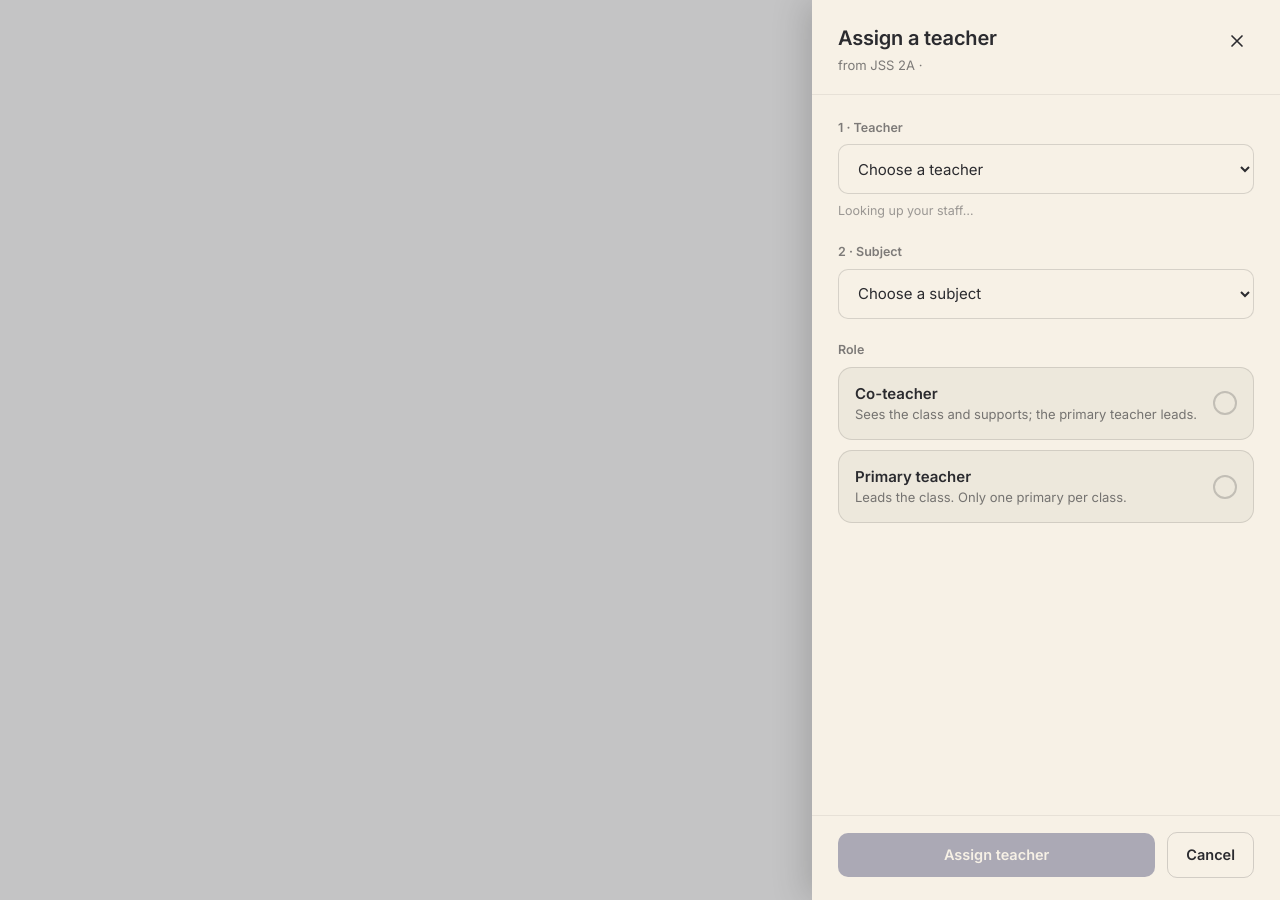
Scenario: a class that doesn't take the subject › can't be ticked, says why, and adds the subject when asked - then it can
Select "t-bello" in the dropdown named "Teacher": (1046, 169) [838, 144, 1254, 194]
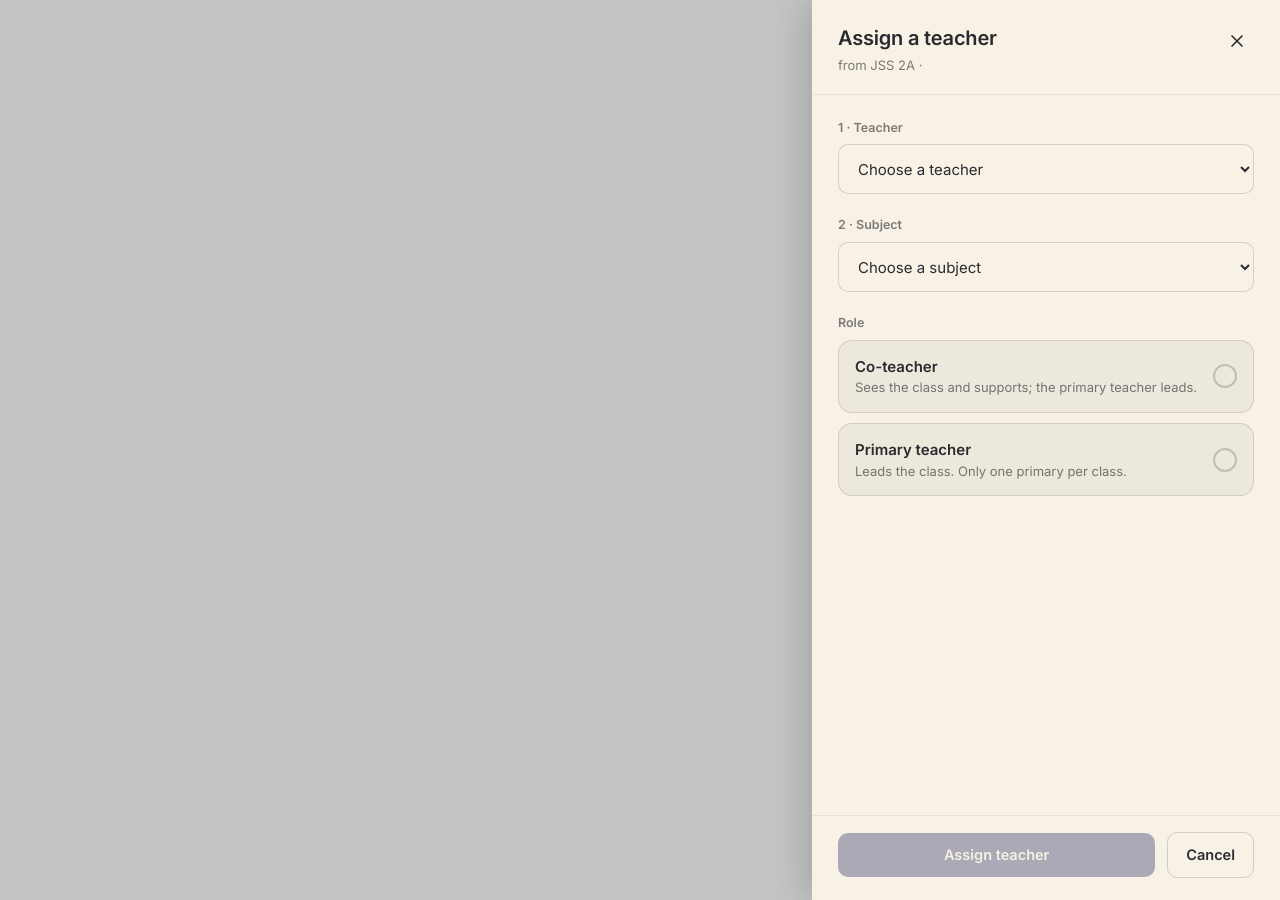
Select "Mathematics" in the dropdown labelled "2 · Subject": (1046, 267) [838, 242, 1254, 292]
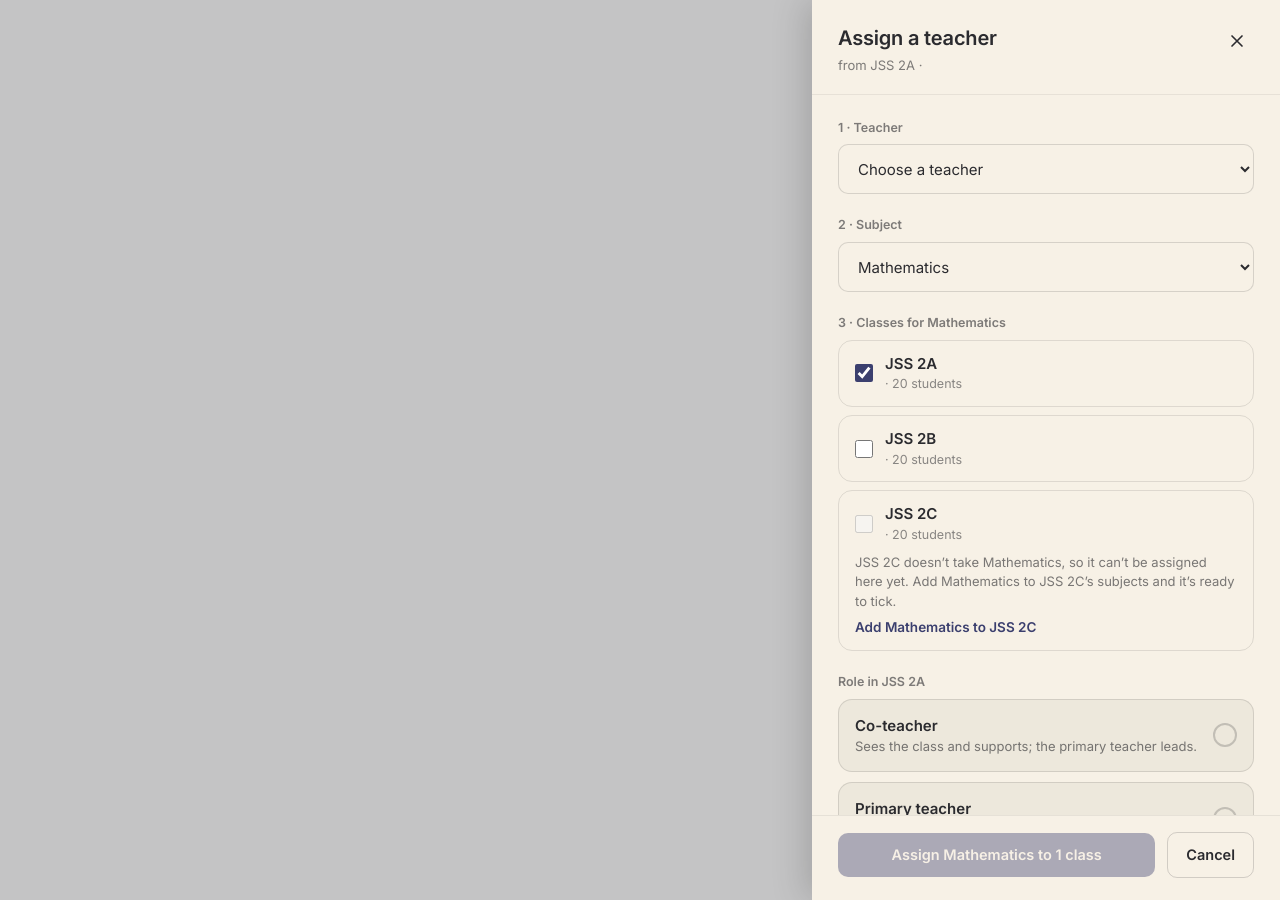
Now the checkbox labelled "JSS 2C · 20 students" is disabled, box [855, 515, 873, 533]
Click the button "Add Mathematics to JSS 2C": (946, 627) [855, 617, 1036, 637]
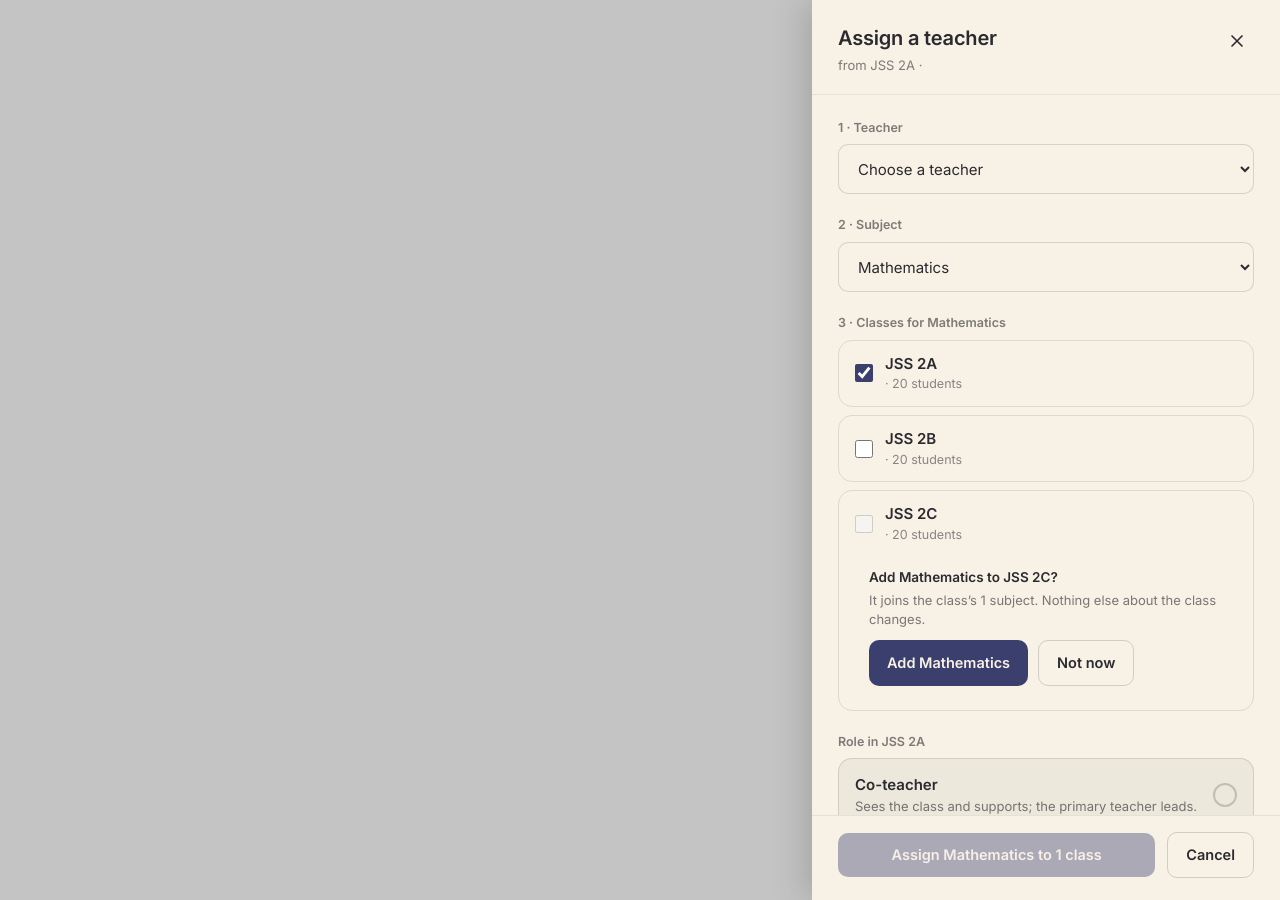
Click the button "Add Mathematics": (949, 663) [869, 640, 1028, 686]
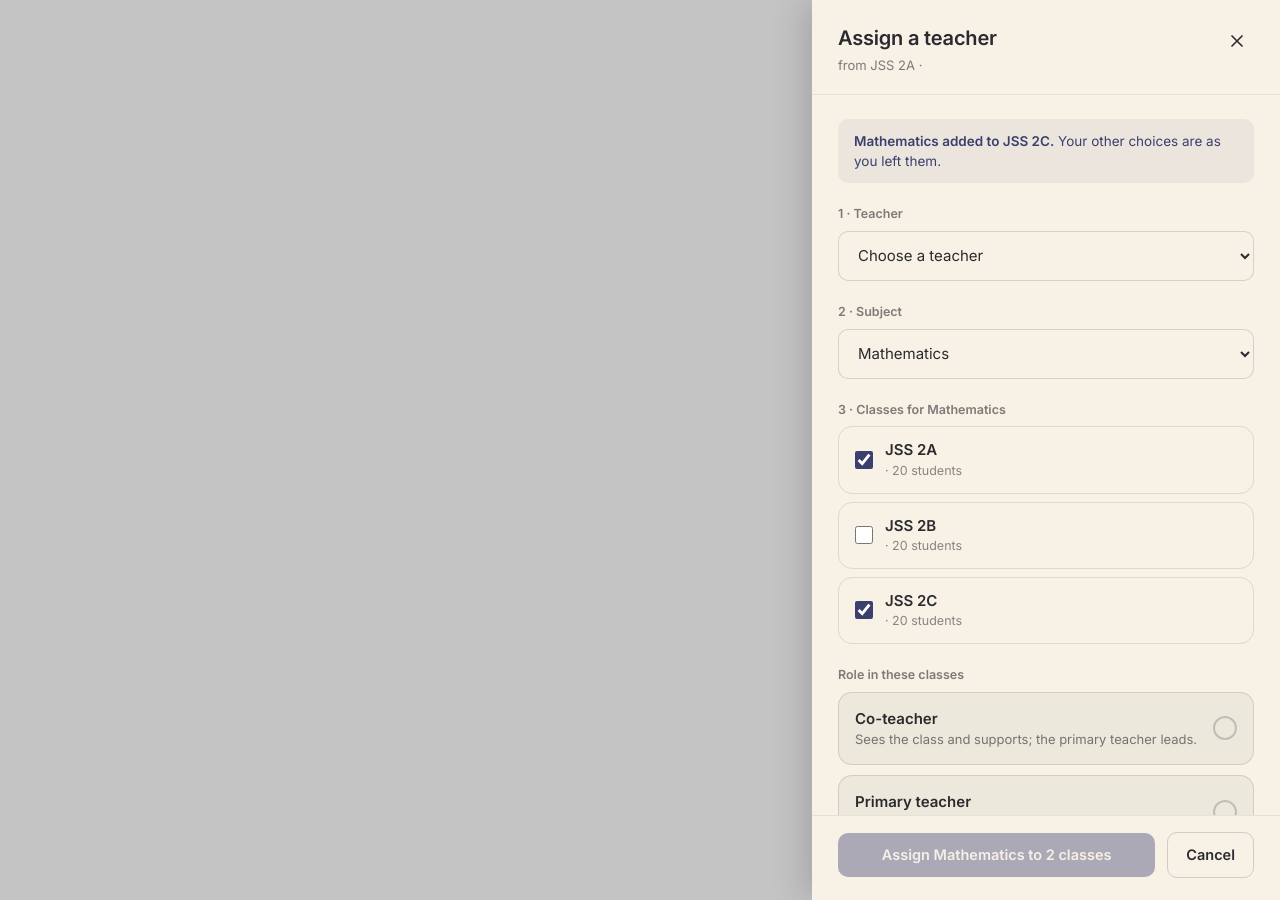
Now the text "Mathematics added to JSS 2C. Your other choices are as you left them." is shown, box [838, 118, 1254, 183]
Now the checkbox labelled "JSS 2C · 20 students" is checked, box [855, 601, 873, 619]
Now the button "Assign Mathematics to 2 classes" is shown, box [838, 833, 1155, 877]
